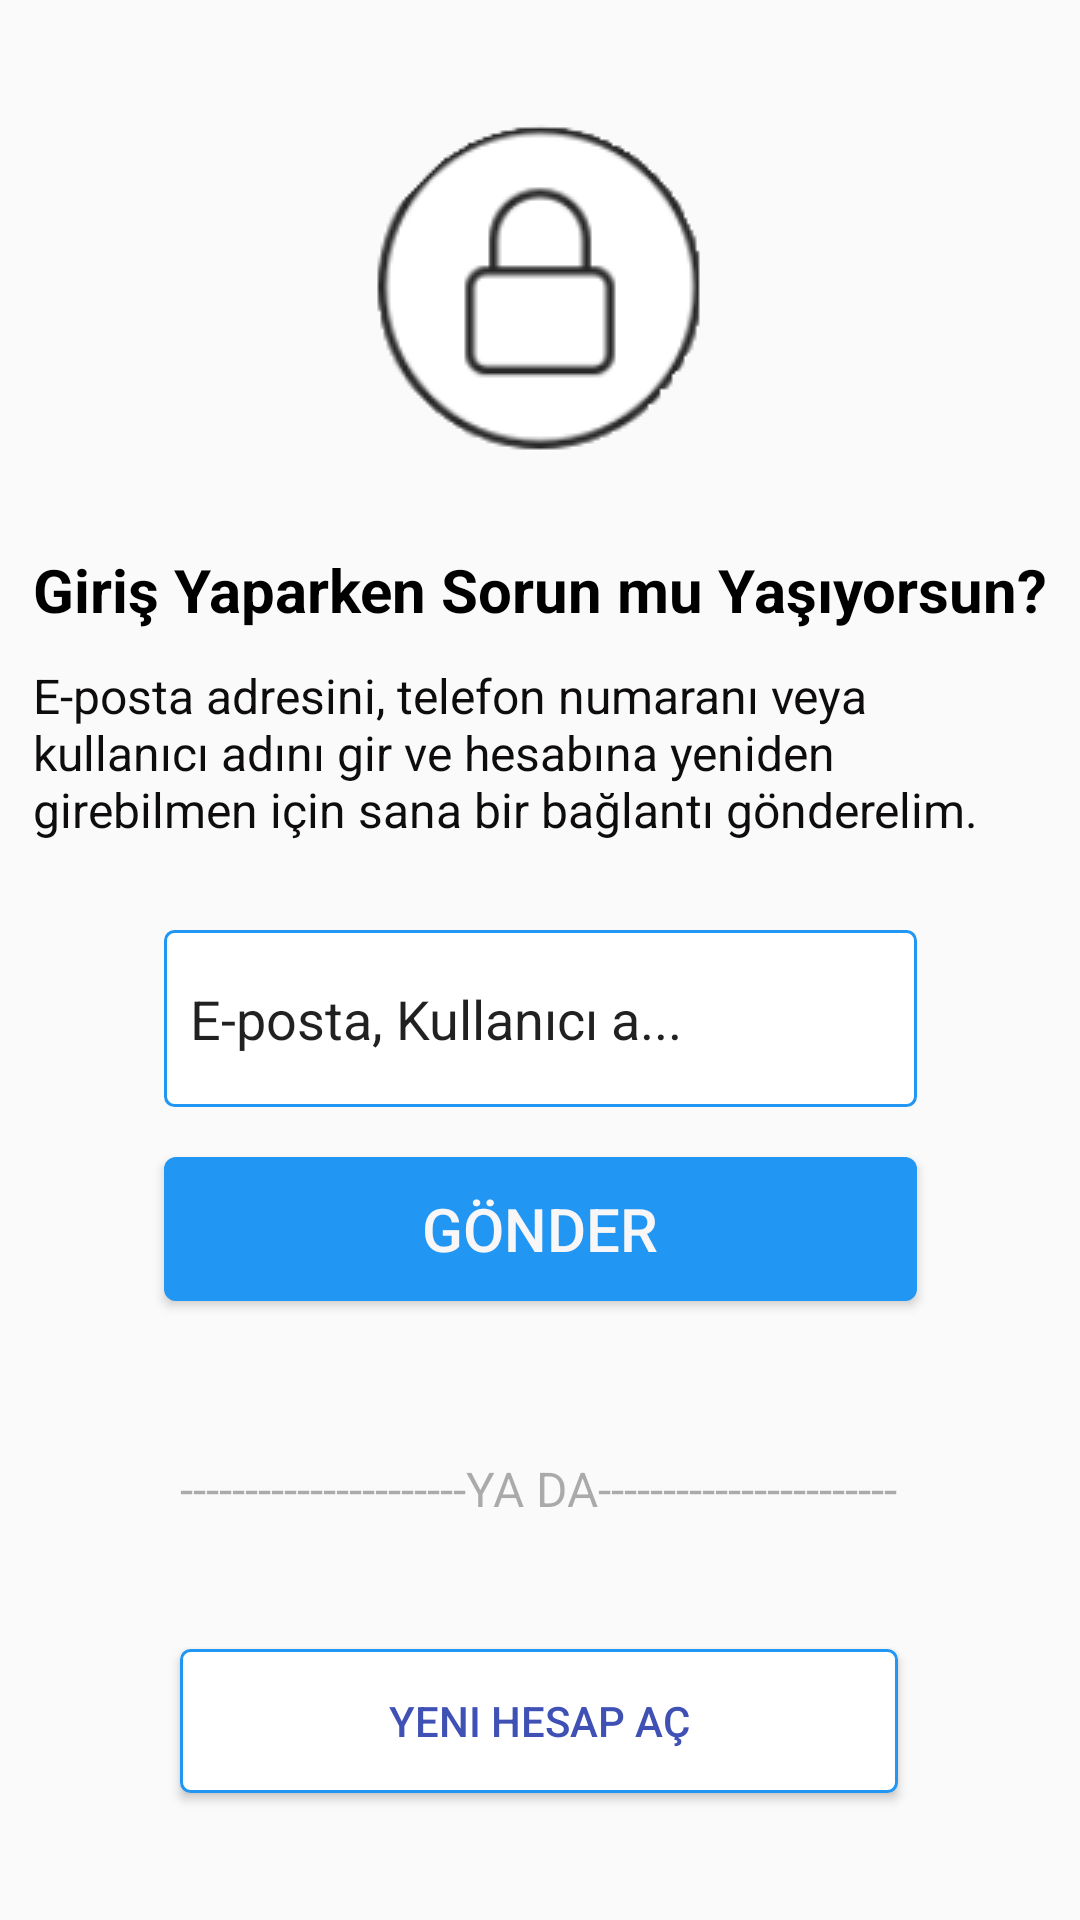

Locate icon controls on the screen. Image size 1080*1920, boxes as (x1, y1, x2, y2).
kilitt: (377, 127, 700, 450)
